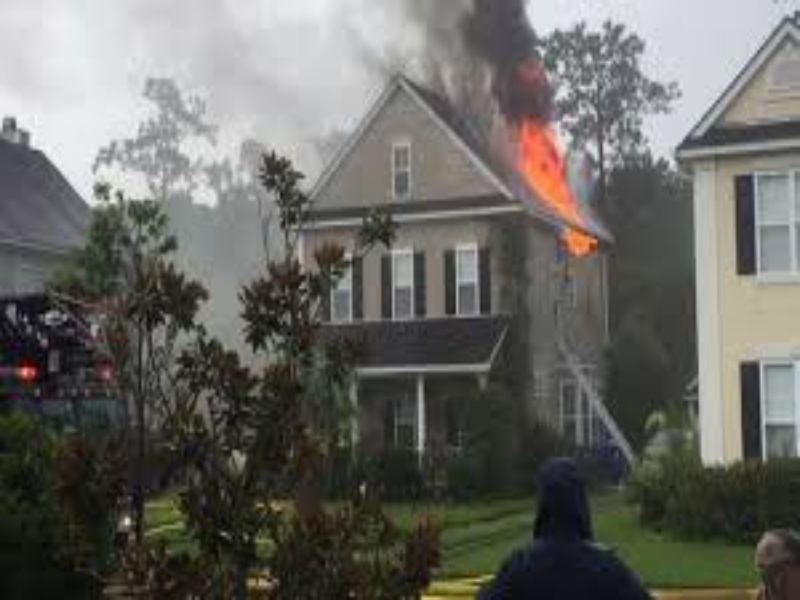fire: (495, 101, 618, 267)
